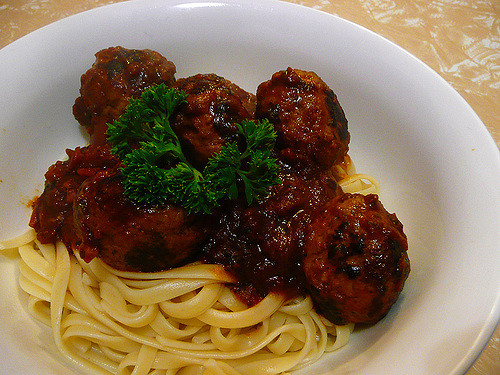meatballs: (267, 189, 398, 292), (262, 49, 349, 176)
plain spaghetti: (27, 259, 282, 361)
